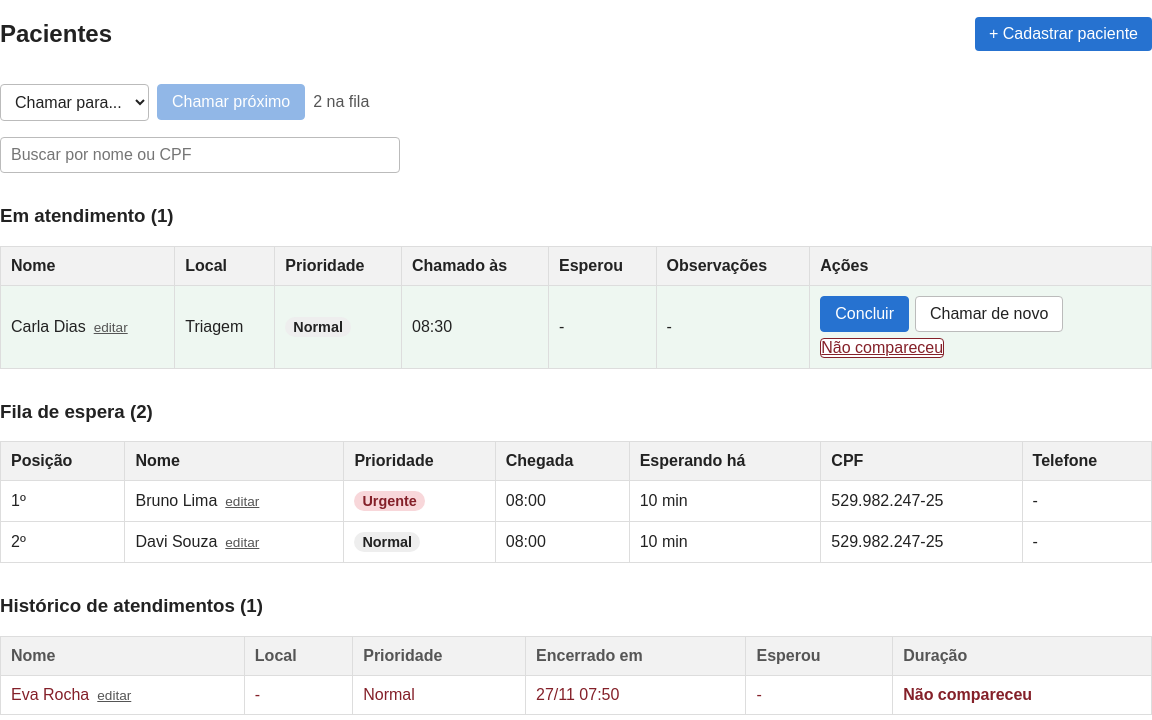
Test: concluir manda o pedido para o paciente certo
What coordinates should you click on to do the following:
click the button "Concluir"
I would click on:
 (865, 314)
Its box is [820,296,909,332].
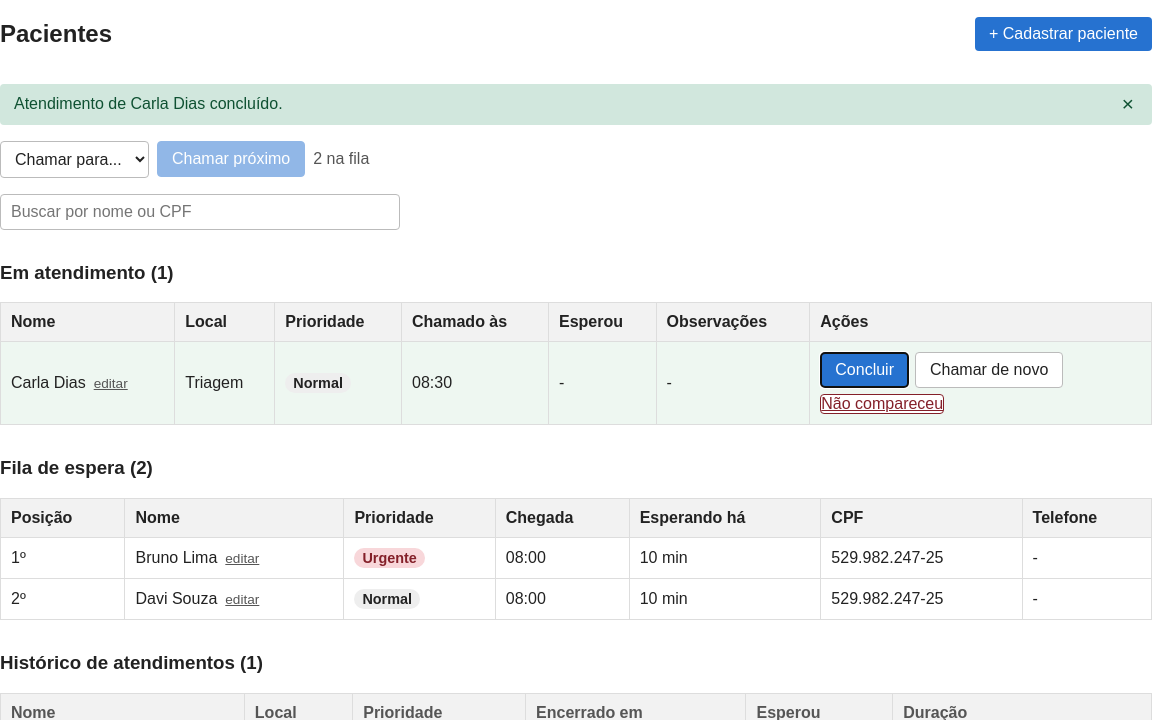
Expected: the message shows "Atendimento de Carla Dias concluído.", [14,95,283,112]
